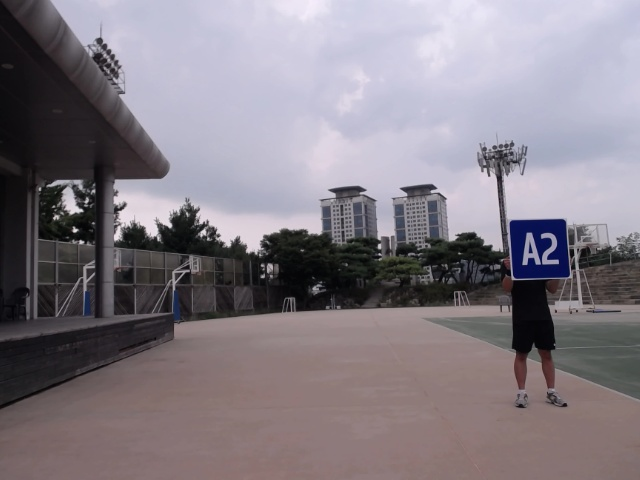delivery_a2: (509, 218, 571, 279)
